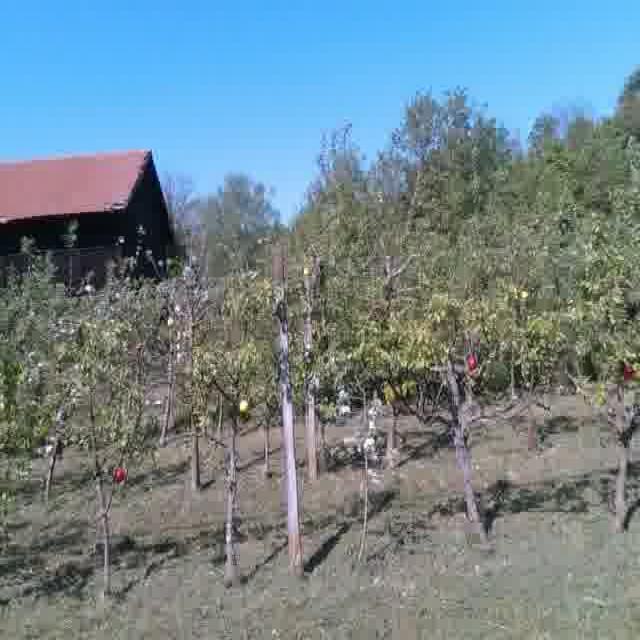red: (112, 465, 128, 484), (465, 351, 479, 372), (622, 363, 639, 379)
yellow: (238, 396, 250, 414)
